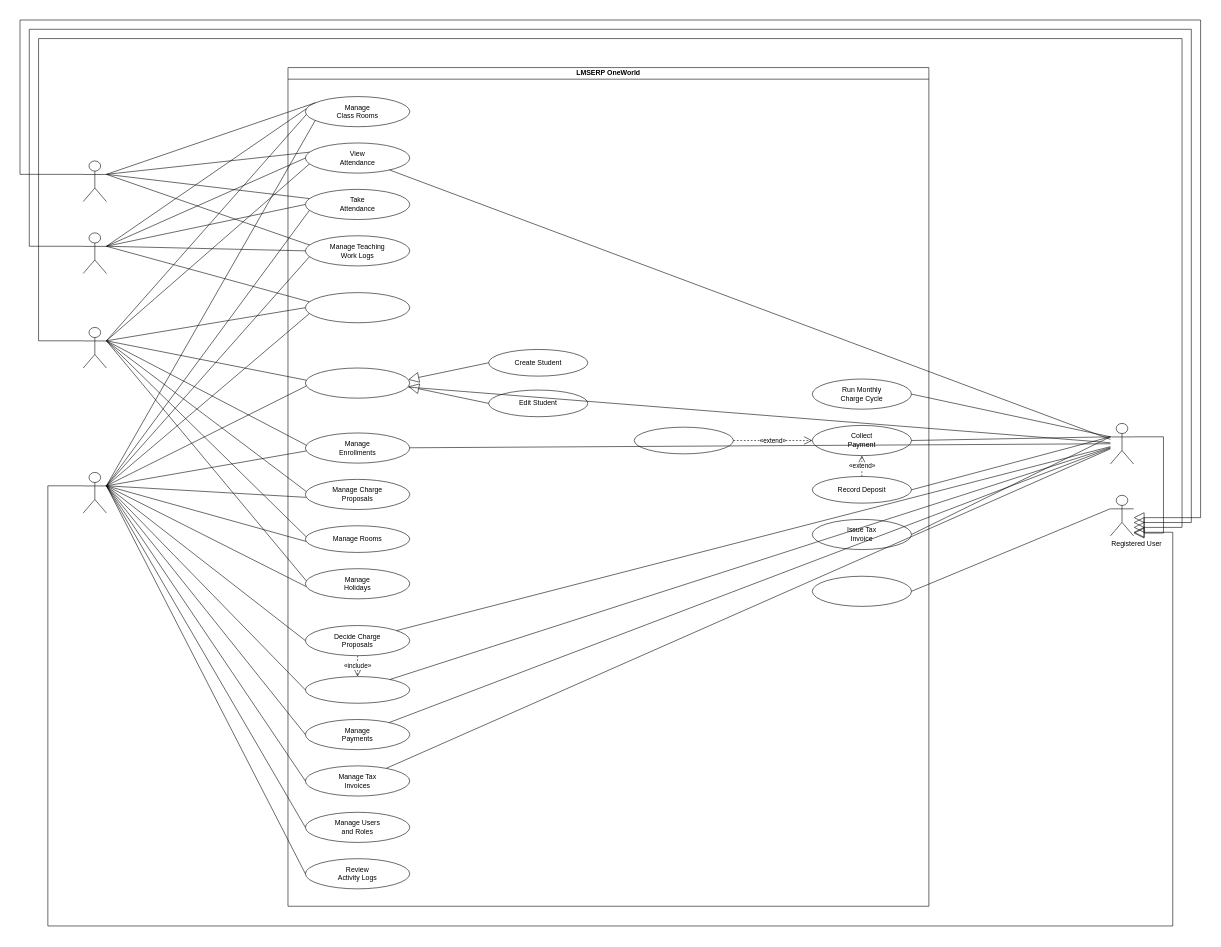
This 1221x947 diagram has some shape labels left out. The box of each missing label's shape, as (x1, y1, x2, y2) in pixels:
Accountant: (1110, 423, 1134, 464)
Administrator: (83, 472, 106, 513)
Assistant: (83, 160, 106, 202)
Change Password: (812, 576, 911, 606)
Manage Charges: (305, 676, 410, 703)
Manage Session Journals: (305, 292, 410, 323)
Manage Students: (305, 367, 410, 398)
Manager: (83, 327, 106, 368)
Record Payment: (634, 427, 733, 454)
Teacher: (83, 232, 106, 273)
